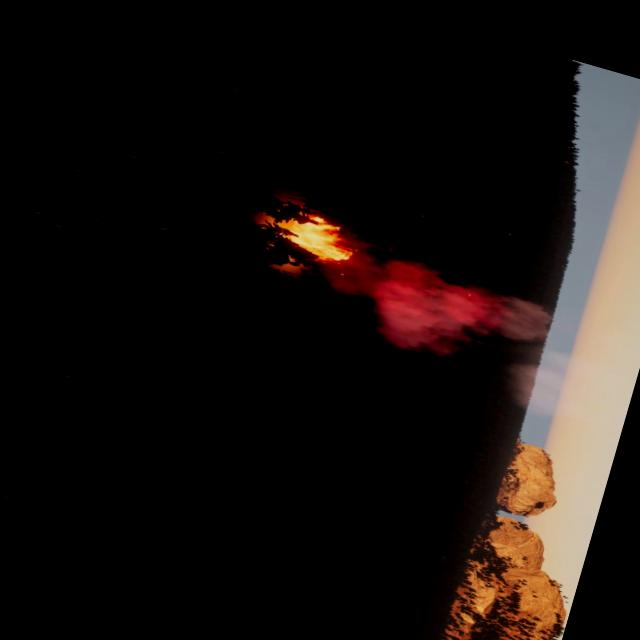fire: (278, 207, 359, 276)
smoke: (314, 243, 592, 417)
